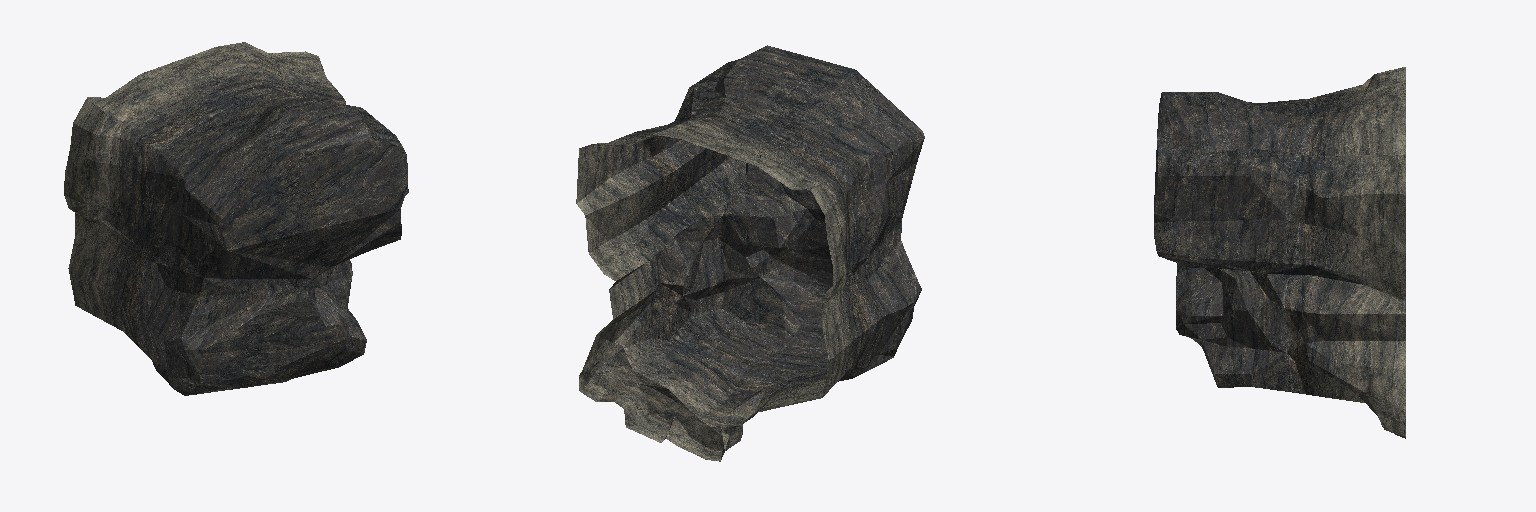
3 views of the same model, side by side, from view 1: azimuth 30°, elevation 25°; view 2: azimuth 150°, elevation 25°; view 3: azimuth 270°, elevation 25° (orthographic).
Parts seen in each view (by area): view 1: Body.rock_desert_k.smd.mesh_0; view 2: Body.rock_desert_k.smd.mesh_0; view 3: Body.rock_desert_k.smd.mesh_0.
Boxes of the visible parts, box(x1,y1,x2,y2) form: Body.rock_desert_k.smd.mesh_0: box(64, 42, 408, 395); Body.rock_desert_k.smd.mesh_0: box(576, 45, 924, 461); Body.rock_desert_k.smd.mesh_0: box(1154, 67, 1405, 438).
Bounding box in the file's own units: 133 × 155 × 113.
Materials: 1 (1 with a texture image).